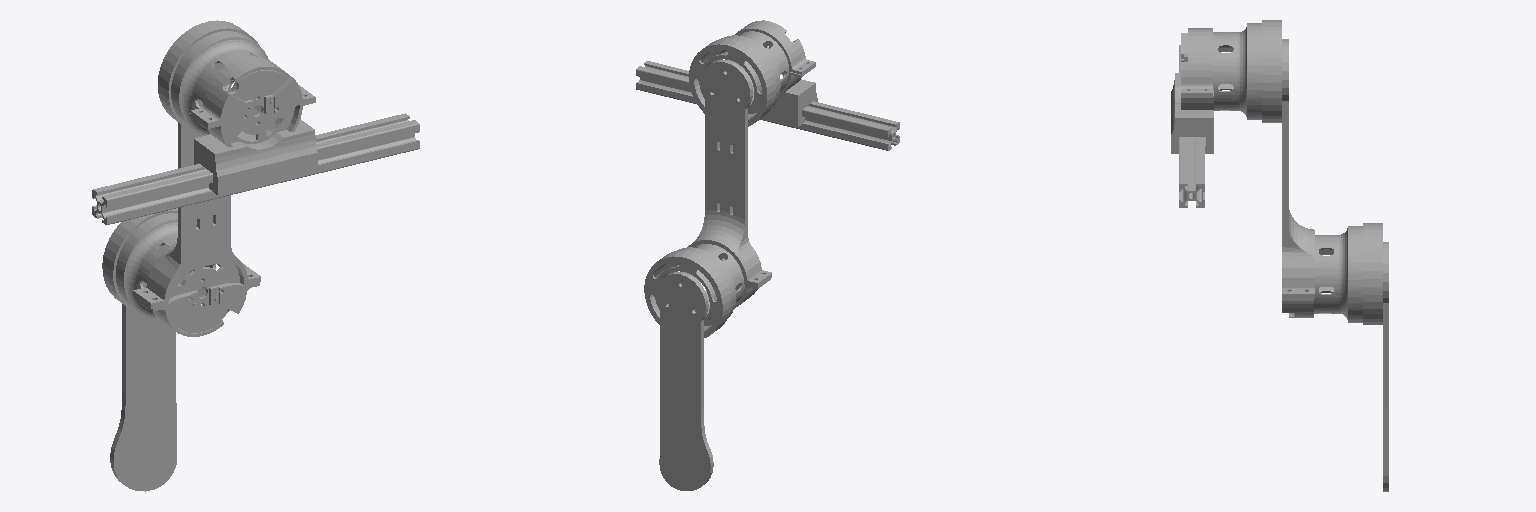
The robot description file, URDF, robot "Assem_final":
<?xml version="1.0" encoding="utf-8"?>
<!-- This URDF was automatically created by SolidWorks to URDF Exporter! Originally created by [author] ([email redacted]) 
     Commit Version: 1.6.0-1-g15f4949  Build Version: 1.6.7594.29634
     For more information, please see http://wiki.ros.org/sw_urdf_exporter -->
<robot
  name="Assem_final">

  <link name = "world">
  </link>

  <joint
    name="J0"
    type="prismatic">
    <origin
      xyz="0 0 0"
      rpy="0 0 0" />

    <limit effort="0" velocity="9000.0" lower="0.0" upper="0.7" />
    <parent
      link="world" />
    <child
      link="base_link" />
    <axis
      xyz="0 0 1" />
  </joint>

  <link
    name="base_link">
    <inertial>
      <origin
        xyz="0.0382588932821924 0.0535806284264134 0.0459723235898436"
        rpy="0 0 0" />
      <mass
        value="0.986212675679095" />
      <inertia
        ixx="0.00042849081010819"
        ixy="-8.83634264761844E-07"
        ixz="-5.25192235662999E-07"
        iyy="0.0018100821435672"
        iyz="3.4294164006644E-06"
        izz="0.00186279127314736" />
    </inertial>
    <visual>
      <origin
        xyz="0 0 0"
        rpy="0 0 0" />
      <geometry>
        <mesh
          filename="package://Assem_final/meshes/base_link.STL" />
      </geometry>
      <material
        name="">
        <color
          rgba="0.698039215686274 0.698039215686274 0.698039215686274 1" />
      </material>
    </visual>
    <collision>
      <origin
        xyz="0 0 0"
        rpy="0 0 0" />
      <geometry>
        <mesh
          filename="package://Assem_final/meshes/base_link.STL" />
      </geometry>
    </collision>
  </link>

  <link
    name="L1">
    <inertial>
      <origin
        xyz="8.40129426049677E-05 0.0369198769089664 0.165494206593458"
        rpy="0 0 0" />
      <mass
        value="0.498165904436461" />
      <inertia
        ixx="0.000472806717582506"
        ixy="5.25195545344476E-07"
        ixz="-8.83636861611358E-07"
        iyy="0.000568689072913643"
        iyz="-8.10645976956936E-06"
        izz="0.000393281710139591" />
    </inertial>
    <visual>
      <origin
        xyz="0 0 0"
        rpy="0 0 0" />
      <geometry>
        <mesh
          filename="package://Assem_final/meshes/L1.STL" />
      </geometry>
      <material
        name="">
        <color
          rgba="0.698039215686274 0.698039215686274 0.698039215686274 1" />
      </material>
    </visual>
    <collision>
      <origin
        xyz="0 0 0"
        rpy="0 0 0" />
      <geometry>
        <mesh
          filename="package://Assem_final/meshes/L1.STL" />
      </geometry>
    </collision>
  </link>

  <joint
    name="J1"
    type="continuous">
    <origin
      xyz="0.03819115484122 0.00762393016926217 0.0732791643351732"
      rpy="3.14159265358975 0 3.14159265358979" />
    <parent
      link="base_link" />
    <child
      link="L1" />
    <axis
      xyz="0 -1 0" />
  </joint>

  <link
    name="L2">
    <inertial>
      <origin
        xyz="0.000920993042551568 0.00250852605885983 0.0794638442103484"
        rpy="0 0 0" />
      <mass
        value="0.0338520299962381" />
      <inertia
        ixx="0.00011588001578817"
        ixy="2.65821064558176E-10"
        ixz="-2.18049576158245E-06"
        iyy="0.000121119383130265"
        iyz="2.29352043784563E-08"
        izz="5.38022012915508E-06" />
    </inertial>
    <visual>
      <origin
        xyz="0 0 0"
        rpy="0 0 0" />
      <geometry>
        <mesh
          filename="package://Assem_final/meshes/L2.STL" />
      </geometry>
      <material
        name="">
        <color
          rgba="0.698039215686274 0.698039215686274 0.698039215686274 1" />
      </material>
    </visual>
    <collision>
      <origin
        xyz="0 0 0"
        rpy="0 0 0" />
      <geometry>
        <mesh
          filename="package://Assem_final/meshes/L2.STL" />
      </geometry>
    </collision>
  </link>

  <joint
    name="J2"
    type="continuous">
    <origin
      xyz="0 0.0765830000000001 0.169999999999996"
      rpy="0 0 0" />
    <parent
      link="L1" />
    <child
      link="L2" />
    <axis
      xyz="0 -1 0" />
  </joint>


  <gazebo>
  <plugin name="gazebo_ros_control" filename="libgazebo_ros_control.so">
    <robotNamespace>/leg_sim</robotNamespace>
    <robotSimType>gazebo_ros_control/DefaultRobotHWSim</robotSimType>
  </plugin>
  </gazebo>



  <transmission name="tran1">
    <type>transmission_interface/SimpleTransmission</type>
    <actuator name="motor1">
      <mechanicalReduction>1</mechanicalReduction>
      <hardwareInterface>hardware_interface/EffortJointInterface</hardwareInterface>
    </actuator>
    <joint name="J1">
      <hardwareInterface>hardware_interface/EffortJointInterface</hardwareInterface>
    </joint>
  </transmission>

  <transmission name="tran2">
    <type>transmission_interface/SimpleTransmission</type>
    <actuator name="motor2">
      <mechanicalReduction>1</mechanicalReduction>
      <hardwareInterface>hardware_interface/EffortJointInterface</hardwareInterface>
    </actuator>
    <joint name="J2">
      <hardwareInterface>hardware_interface/EffortJointInterface</hardwareInterface>
    </joint>
  </transmission>


  <gazebo reference="L1">
    <material>Gazebo/Blue</material>
  </gazebo>
    <gazebo reference="L2">
    <mu1>1000000000000000.0</mu1>
    <mu2>1000000000000000.0</mu2>
    <kp  value="1e+13"/>
    <kd  value="100.0"/>
    <material>Gazebo/Blue</material>
  </gazebo>
</robot>

--- What the picture shows (computed from the rendered views, not written in the file) ---
Views: 3 orthographic renders of the robot side by side, from view 1: azimuth 30°, elevation 25°; view 2: azimuth 150°, elevation 25°; view 3: azimuth 270°, elevation 25°.
Robot: Assem_final — 4 links, 3 joints (2 continuous, 1 prismatic); root link world; default pose: all joints at 0.
Links seen in each view (by area): view 1: base_link, L1, L2; view 2: L1, base_link, L2; view 3: base_link, L1, L2.
Boxes of the visible links, x1=… form: base_link: x1=92, y1=20, x2=419, y2=224; L1: x1=102, y1=63, x2=260, y2=336; L2: x1=110, y1=245, x2=176, y2=491; L1: x1=644, y1=60, x2=771, y2=337; base_link: x1=636, y1=20, x2=899, y2=150; L2: x1=656, y1=272, x2=713, y2=490; base_link: x1=1171, y1=20, x2=1281, y2=207; L1: x1=1282, y1=39, x2=1382, y2=324; L2: x1=1383, y1=242, x2=1388, y2=491.
Size in the robot's own frame: 0.25 by 0.1662 by 0.3888 metres.
3 mesh visuals loaded from 3 distinct referenced files (3 binary STL).